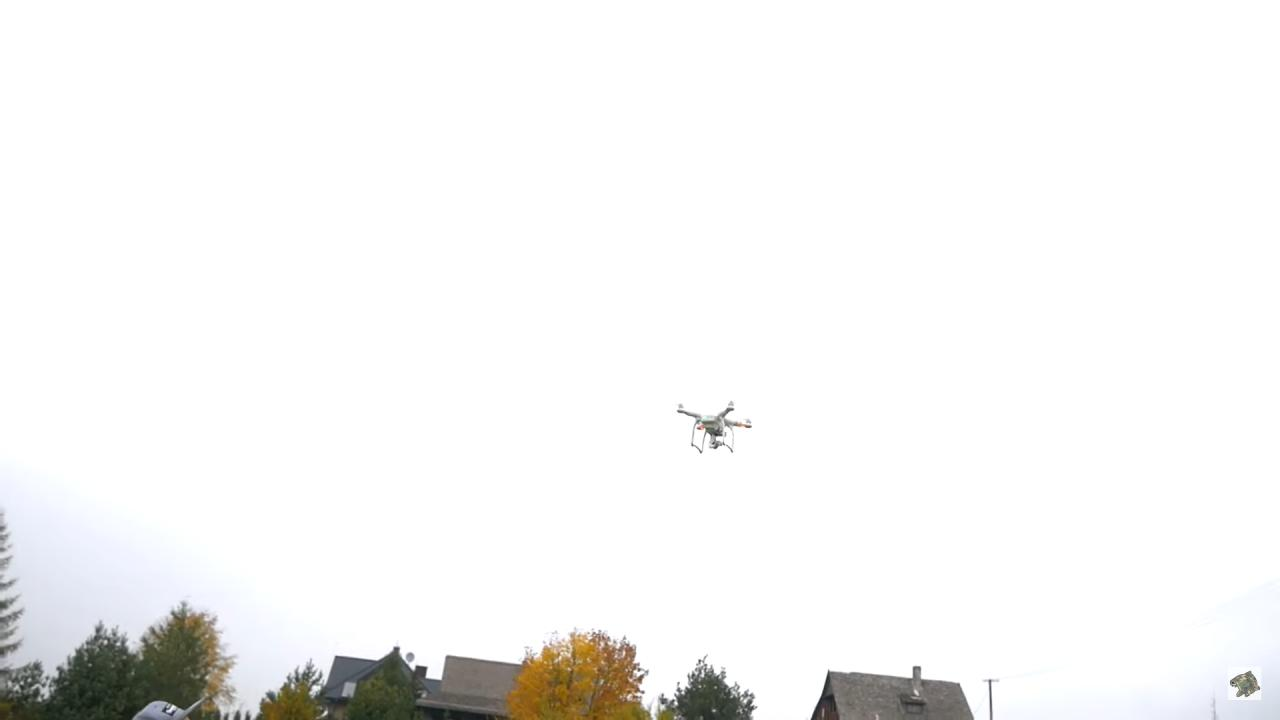Drone: (670, 393, 759, 463)
